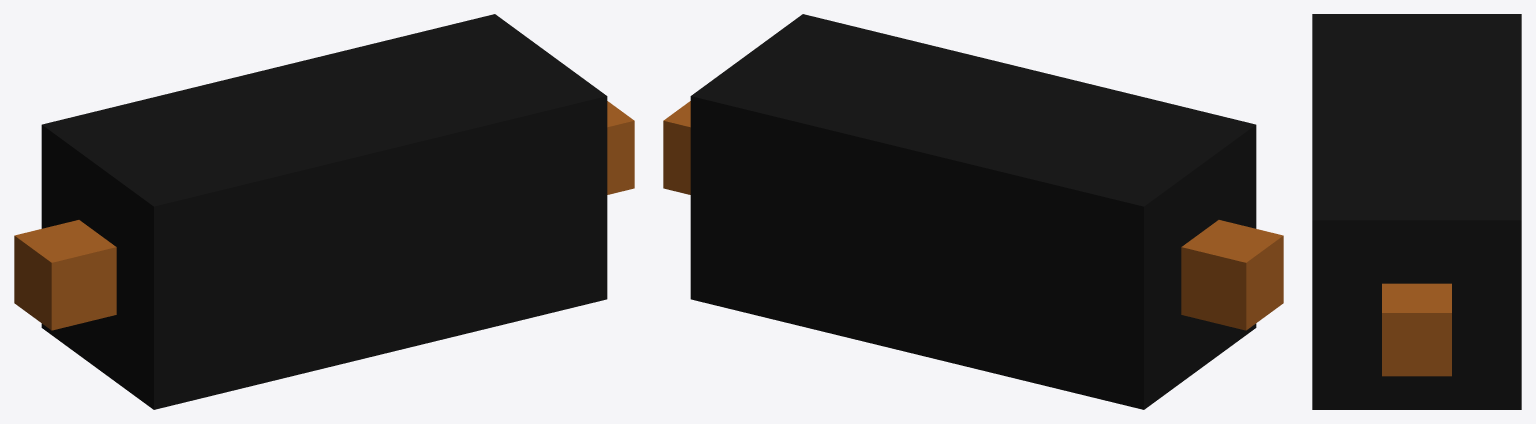
File: insulated_copper_cable.dae
The picture shows the model from 3 angles, left to right: view 1: azimuth 30°, elevation 25°; view 2: azimuth 150°, elevation 25°; view 3: azimuth 270°, elevation 25°; orthographic projection. The views are drawn at different scales.
Visible parts, largest first — view 1: insulated_copper_cable; view 2: insulated_copper_cable; view 3: insulated_copper_cable.
Part boxes in pixels (<box>): insulated_copper_cable: <box>14,14,634,409</box>; insulated_copper_cable: <box>663,14,1283,409</box>; insulated_copper_cable: <box>1312,14,1521,409</box>.
Bounding box in the file's own units: 0.9 × 0.3 × 0.3.
1 material, 1 textured.
